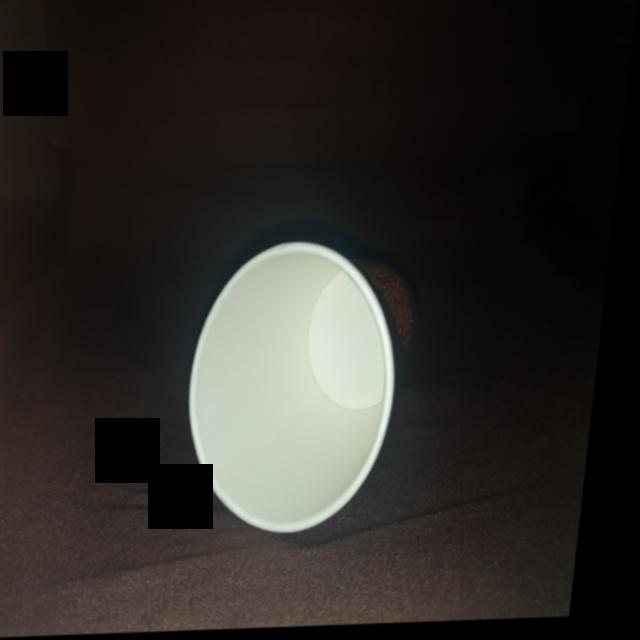cups: (179, 229, 440, 541)
